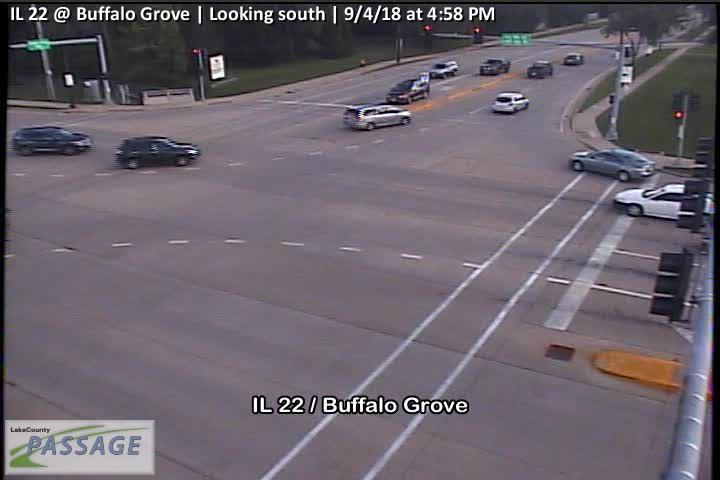SUV: (115, 135, 201, 169), (11, 125, 94, 156), (342, 103, 412, 130), (385, 79, 430, 104), (491, 91, 530, 113), (479, 56, 512, 75), (428, 60, 459, 79)
Sedan: (612, 182, 713, 220), (568, 148, 656, 182), (564, 53, 583, 64)
Truck: (527, 60, 553, 78)
